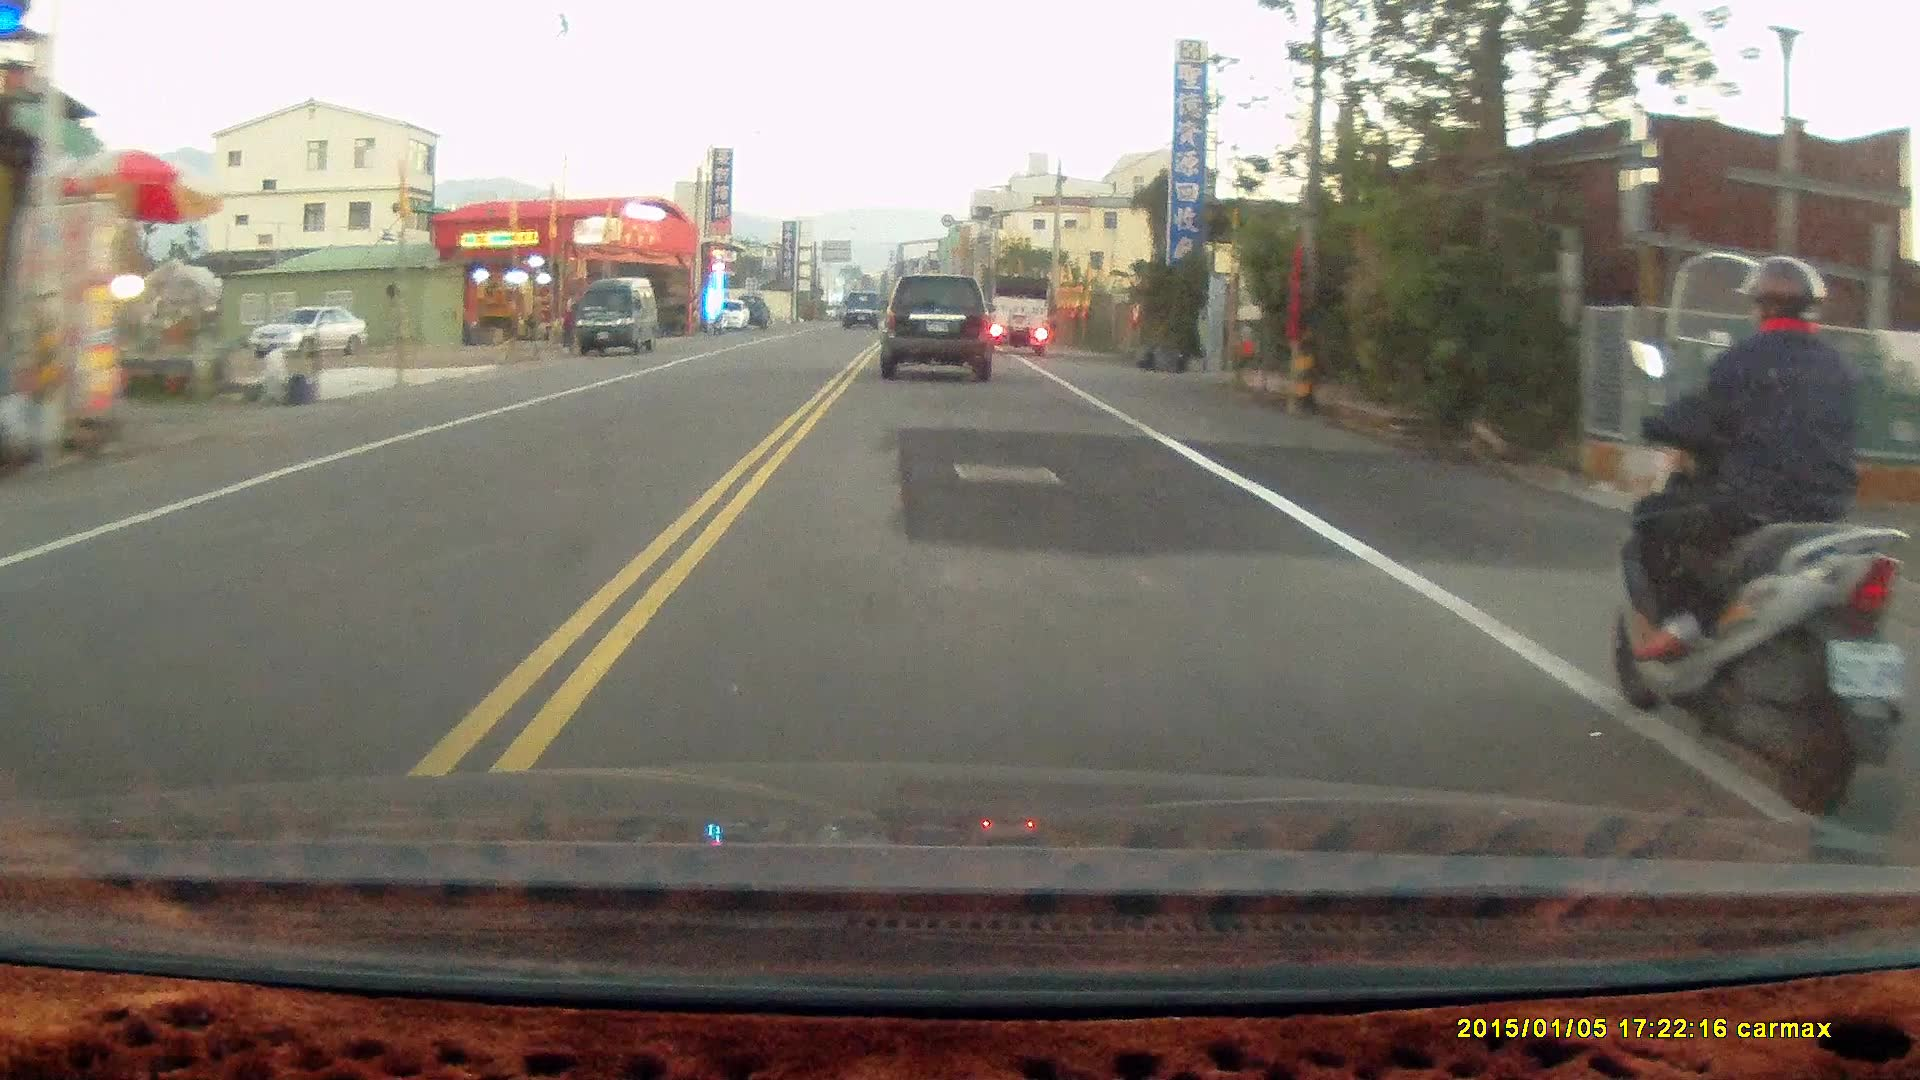rider: (1606, 252, 1896, 811)
vehicle: (880, 277, 1000, 385), (575, 281, 658, 360), (248, 309, 368, 362), (989, 272, 1053, 355)
